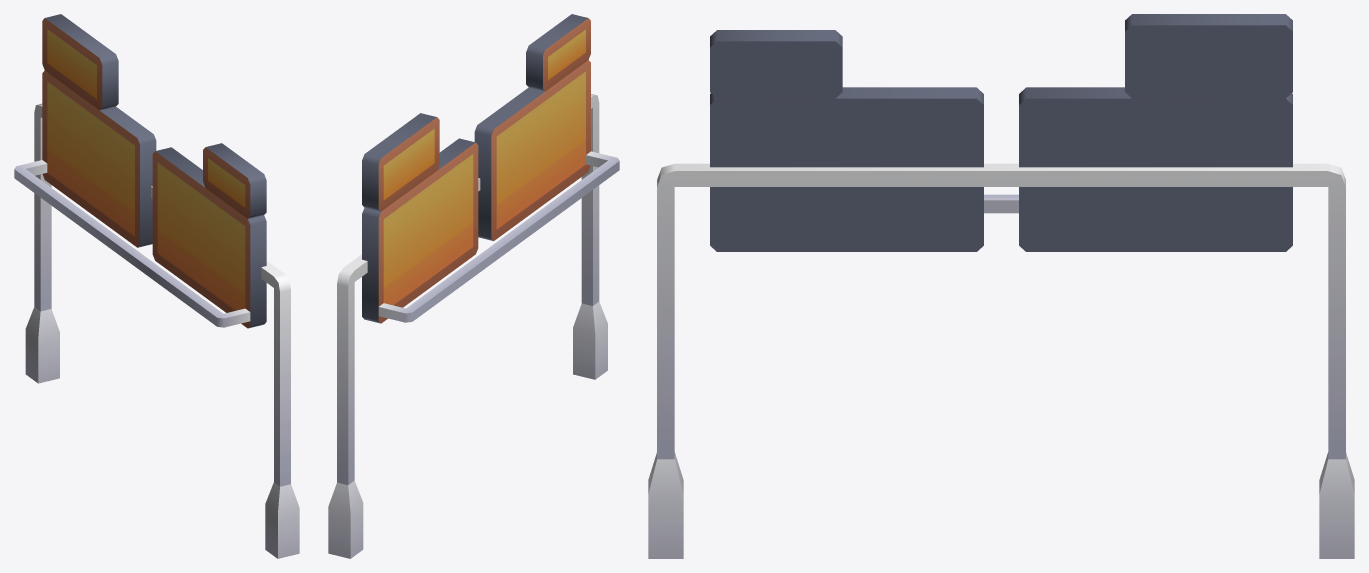
File: sign-highway-detailed.glb
3 views of the same model, side by side, from view 1: azimuth 30°, elevation 25°; view 2: azimuth 150°, elevation 25°; view 3: azimuth 270°, elevation 25° (orthographic). The views are drawn at different scales.
Parts seen in each view (by area): view 1: sign-highway-detailed; view 2: sign-highway-detailed; view 3: sign-highway-detailed.
Boxes of the visible parts, box(x1,y1,x2,y2) form: sign-highway-detailed: box(14, 14, 299, 558); sign-highway-detailed: box(328, 14, 619, 558); sign-highway-detailed: box(648, 14, 1354, 558).
Size of the model in its own units: 0.1324 by 0.8221 by 1.
Materials: 1 (1 with a texture image).
